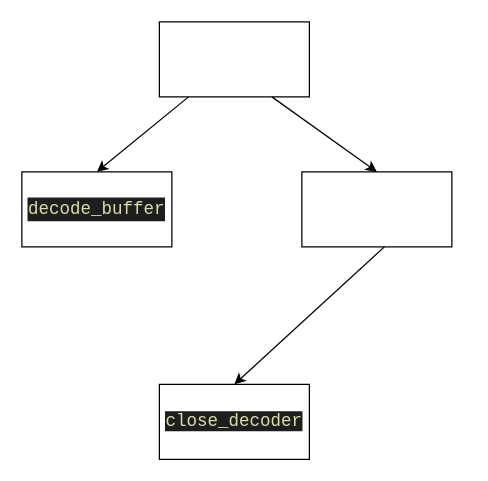
This 488x481 diagram has some shape labels left out. Here are the shapes that lost their labels. From the top down, the centre of each, then its label:
At point 233,59: "init_decoder".
At point 376,209: "decode_one_packet".
